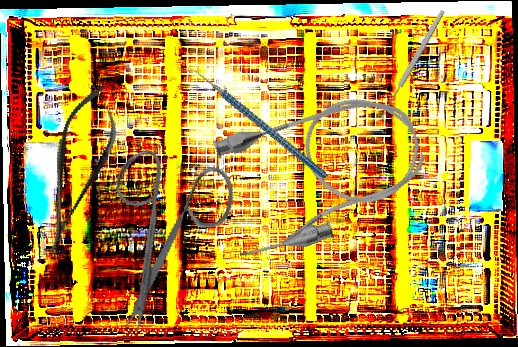Cannula: (202, 78, 439, 268)
Chopper: (179, 32, 328, 214)
Iris Scissors: (68, 126, 270, 337)
Micro Scissor: (25, 78, 130, 261)
Surgical Spoon: (377, 9, 447, 120)
